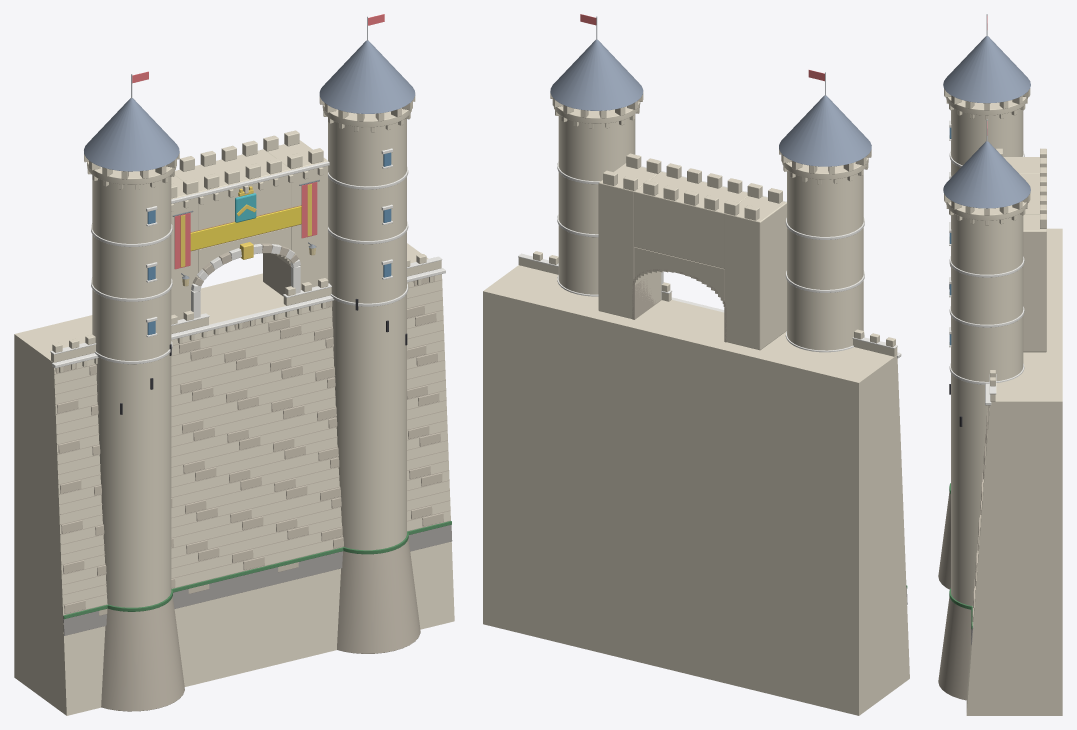
File: headland_gate.fbx
The picture shows the model from 3 angles, left to right: view 1: azimuth 30°, elevation 25°; view 2: azimuth 150°, elevation 25°; view 3: azimuth 270°, elevation 25°; orthographic projection. The views are drawn at different scales.
Parts seen in each view (by area): view 1: Visual; view 2: Visual; view 3: Visual.
Part boxes in pixels (left/top/right/bottom): Visual: left=14, top=14, right=454, bottom=715; Visual: left=483, top=14, right=909, bottom=715; Visual: left=938, top=14, right=1062, bottom=715.
Size of what is drawn, in the model's own units: 5240 by 7880 by 1579.
